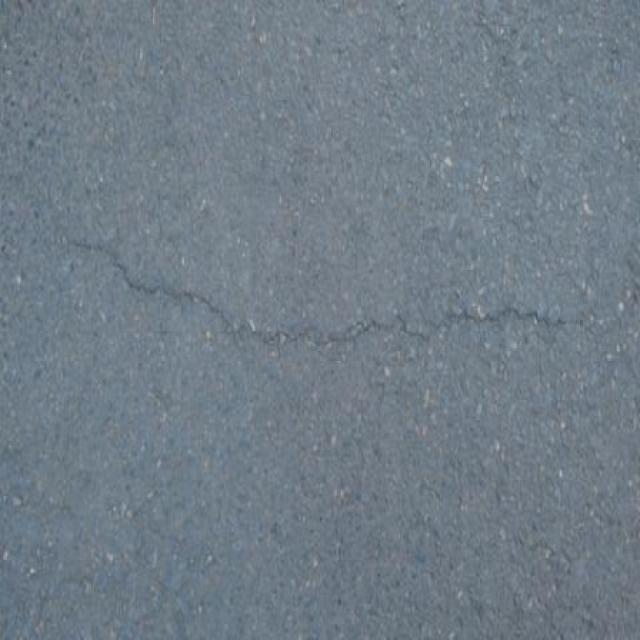Alligator Crack: (43, 219, 584, 364)
